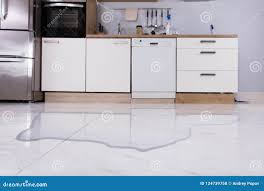Wet-floor: (18, 102, 251, 155)
